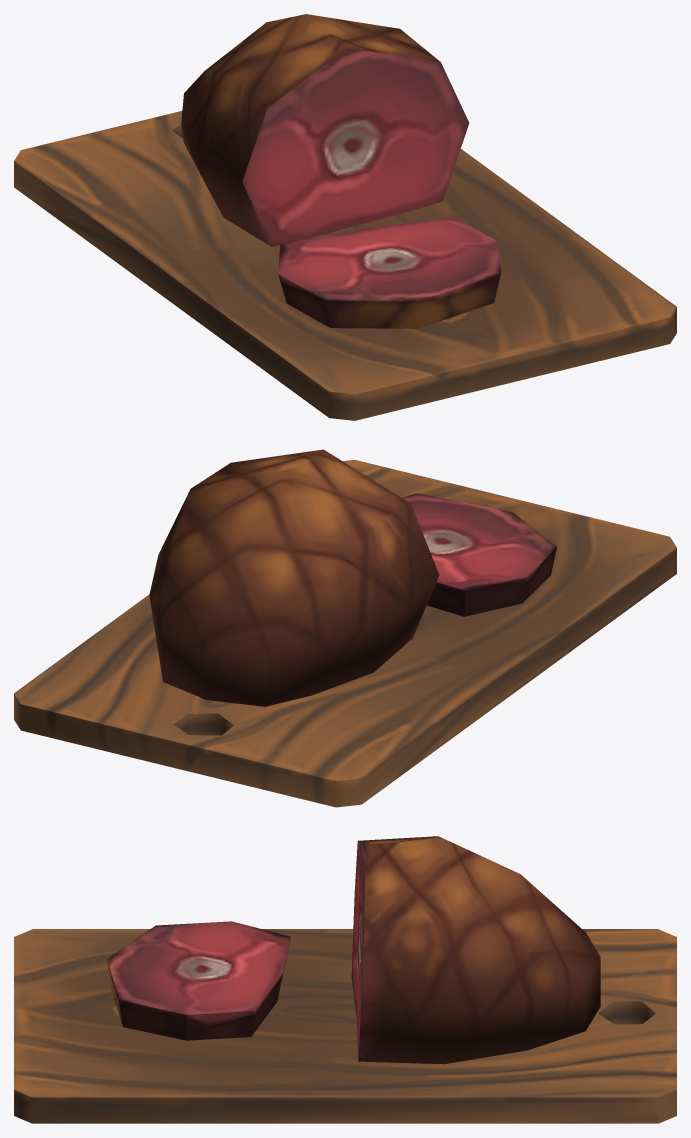
Rendered from tied_ham.fbx.
3 renders of one model, top to bottom at view 1: azimuth 30°, elevation 25°; view 2: azimuth 150°, elevation 25°; view 3: azimuth 270°, elevation 25°, orthographic.
Visible parts, largest first — view 1: tied_ham; view 2: tied_ham; view 3: tied_ham.
Part boxes in pixels (left/top/right/bottom): tied_ham: left=14, top=14, right=676, bottom=420; tied_ham: left=14, top=449, right=676, bottom=807; tied_ham: left=14, top=836, right=676, bottom=1123.
Bounding box in the file's own units: 46.21 × 26.31 × 76.83.
